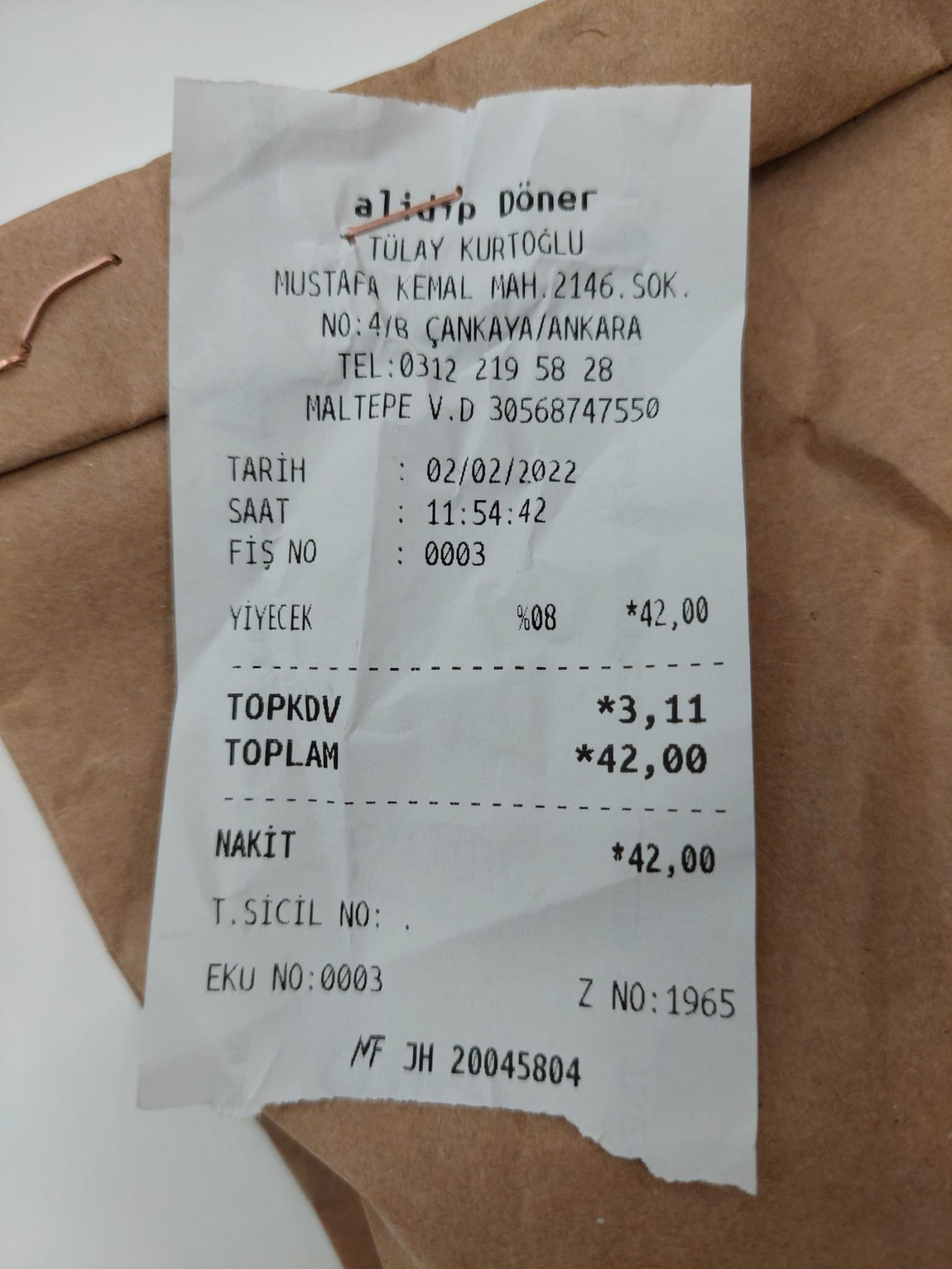date: (588, 732, 721, 786)
price: (418, 447, 585, 492)
workplace: (261, 170, 707, 348)
